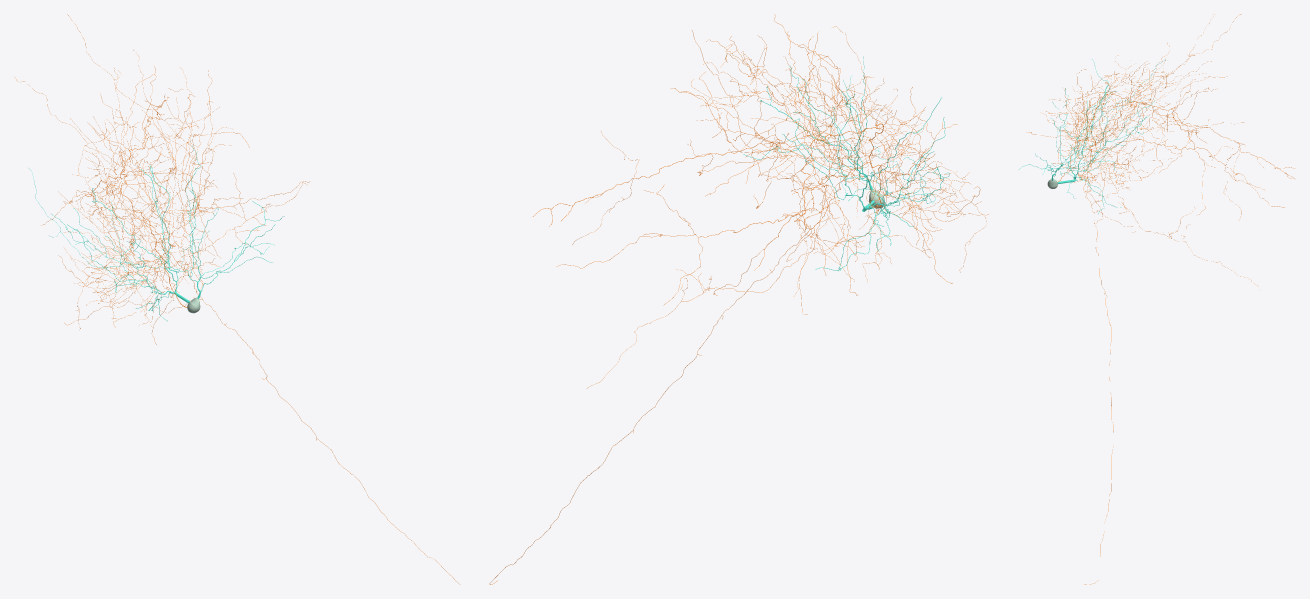
Rendered from neuromorpho-feldmeyer-neuron-109111.glb.
3 views of the same model, side by side, from view 1: azimuth 30°, elevation 25°; view 2: azimuth 150°, elevation 25°; view 3: azimuth 270°, elevation 25° (orthographic). The views are drawn at different scales.
Visible parts, largest first — view 1: Axon, Dendrites; view 2: Axon, Dendrites; view 3: Axon, Dendrites.
Boxes of the visible parts, x1,y1,x2,y2 form: Axon: [15, 14, 460, 584]; Dendrites: [29, 145, 284, 321]; Axon: [489, 14, 988, 584]; Dendrites: [743, 56, 949, 270]; Axon: [1026, 14, 1294, 584]; Dendrites: [1019, 59, 1167, 213].
Bounding box in the file's own units: 572 × 792 × 437.
